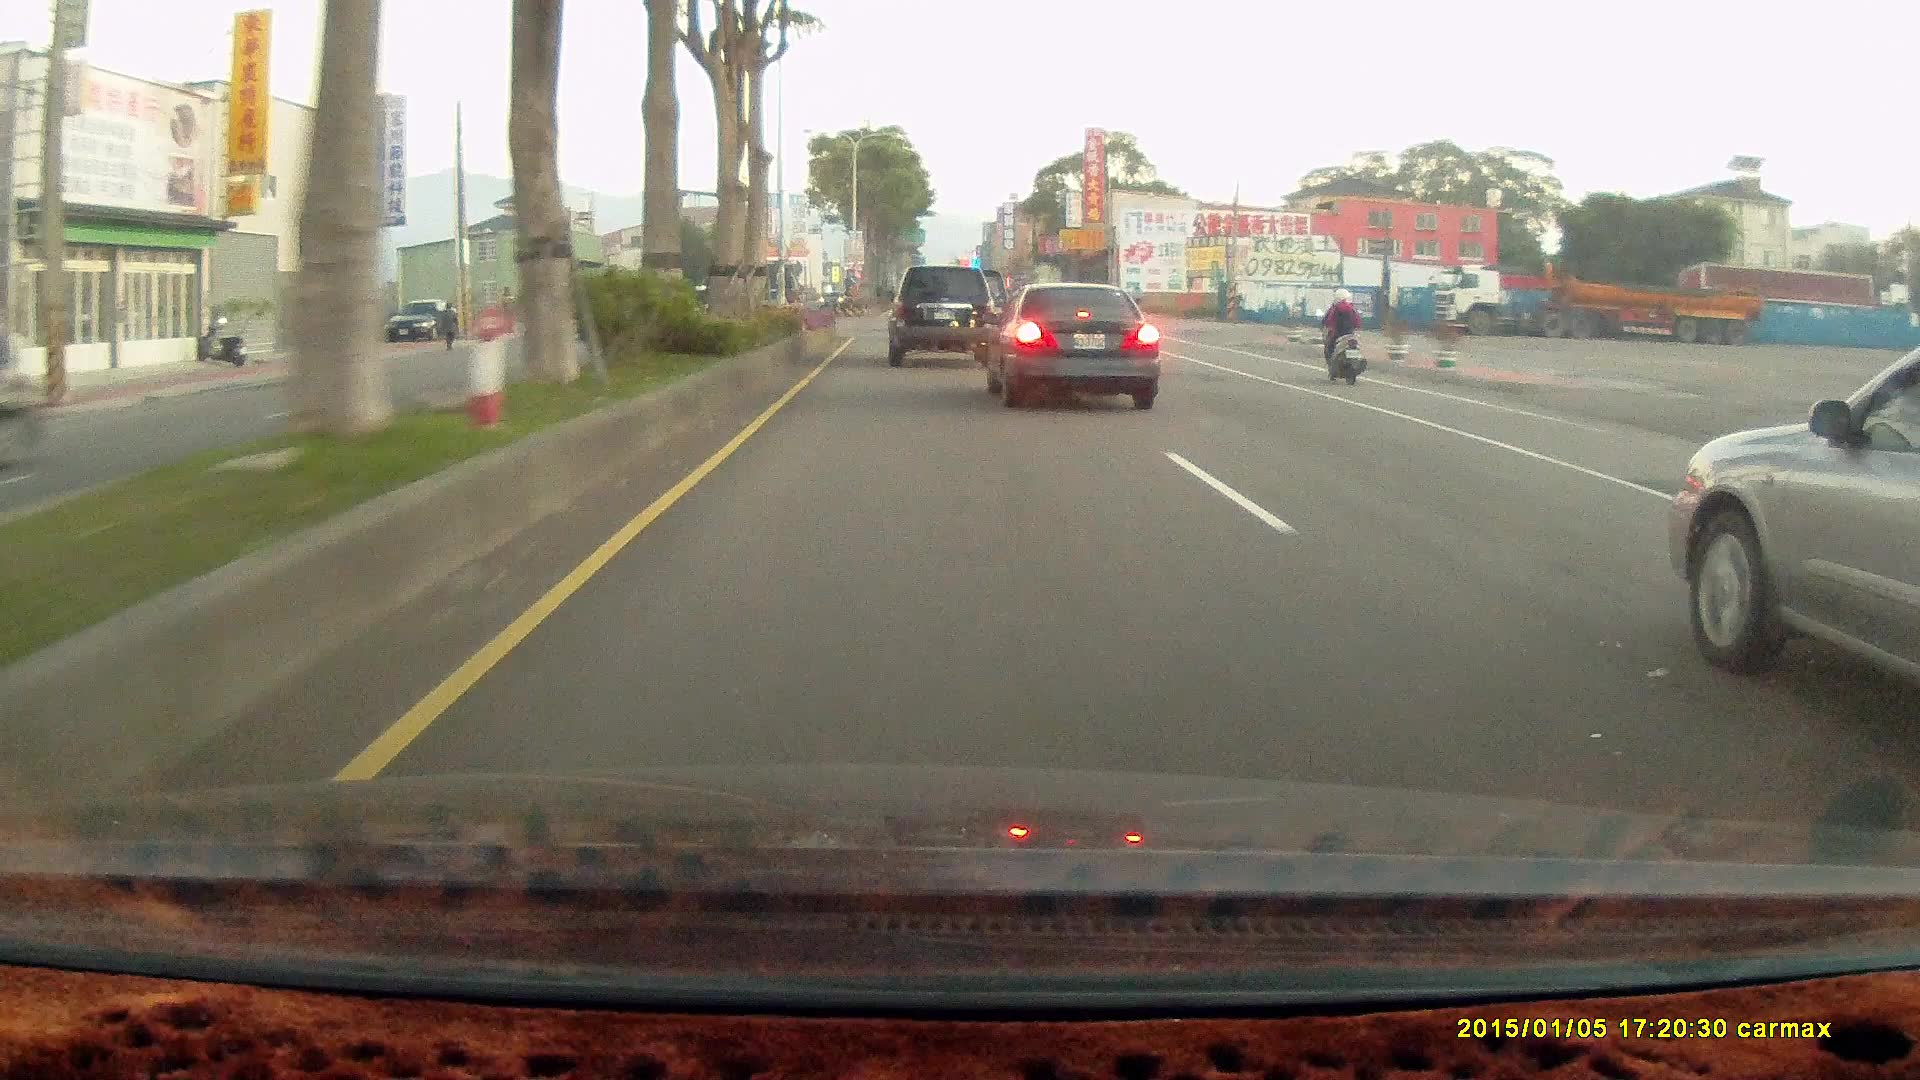pedestrian: (438, 299, 459, 350)
rider: (1308, 281, 1376, 391), (1313, 285, 1367, 383)
vehicle: (1665, 335, 1920, 725), (1426, 266, 1759, 346), (983, 282, 1162, 413), (984, 284, 1158, 407), (880, 262, 1000, 366), (882, 265, 996, 366), (1, 322, 43, 468), (384, 298, 457, 347)
